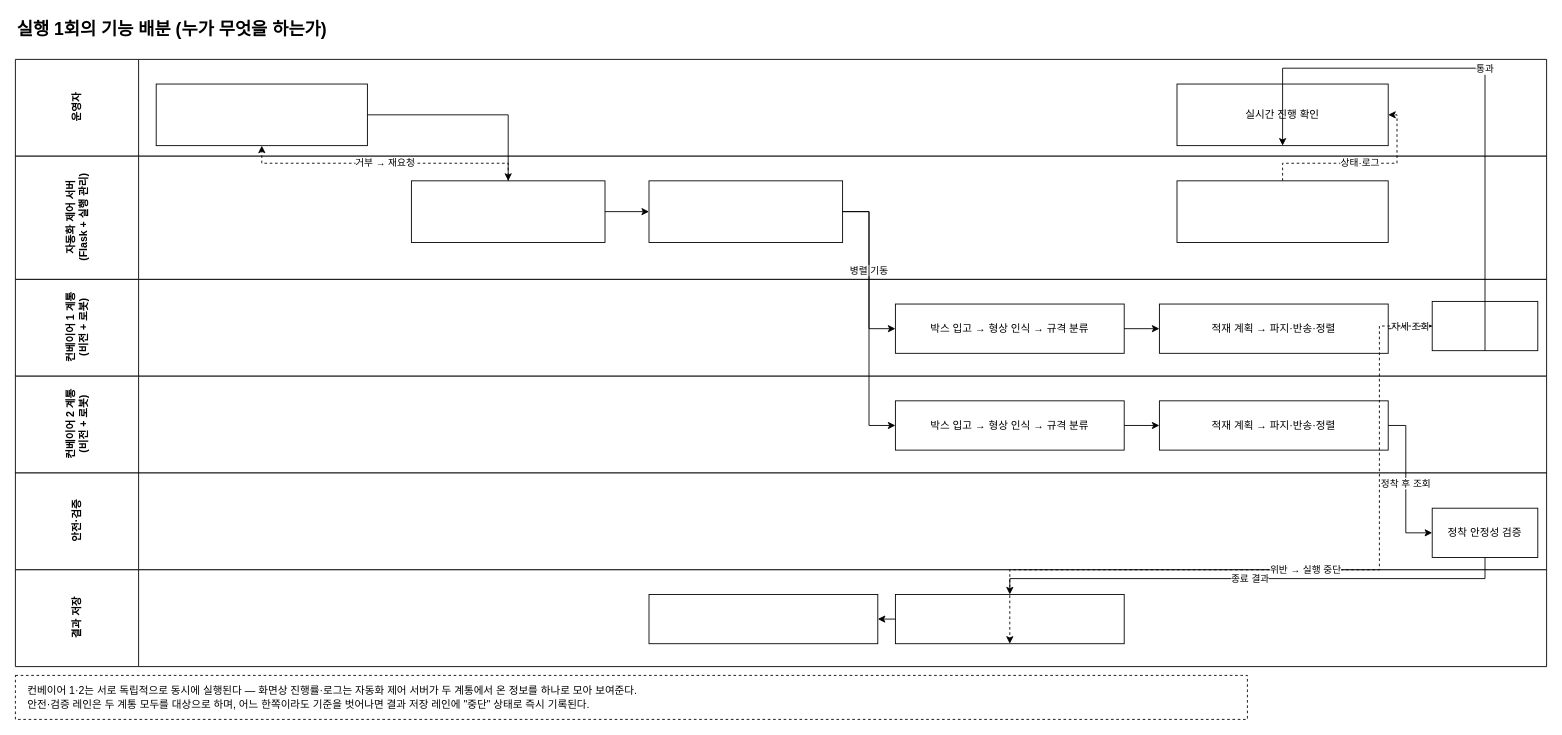
This 1562x735 diagram has some shape labels left out. Here are the shapes that lost their labels. From the top down, the centre of each, then its label:
pixel 261 114: 시나리오 선택 (알고리즘 · 박스 구성 · 반복 횟수)
pixel 508 211: 값 범위 검증 (허용 목록 밖 거부)
pixel 745 211: 디지털 트윈 기동
pixel 1282 211: 상태·로그 중계
pixel 1484 326: 릴리스 자세 검증
pixel 763 619: 실행 이력 저장 (성공률 · 처리시간 · 안정성)
pixel 1009 619: 종료 상태 회신 (정상/중단 판별)
